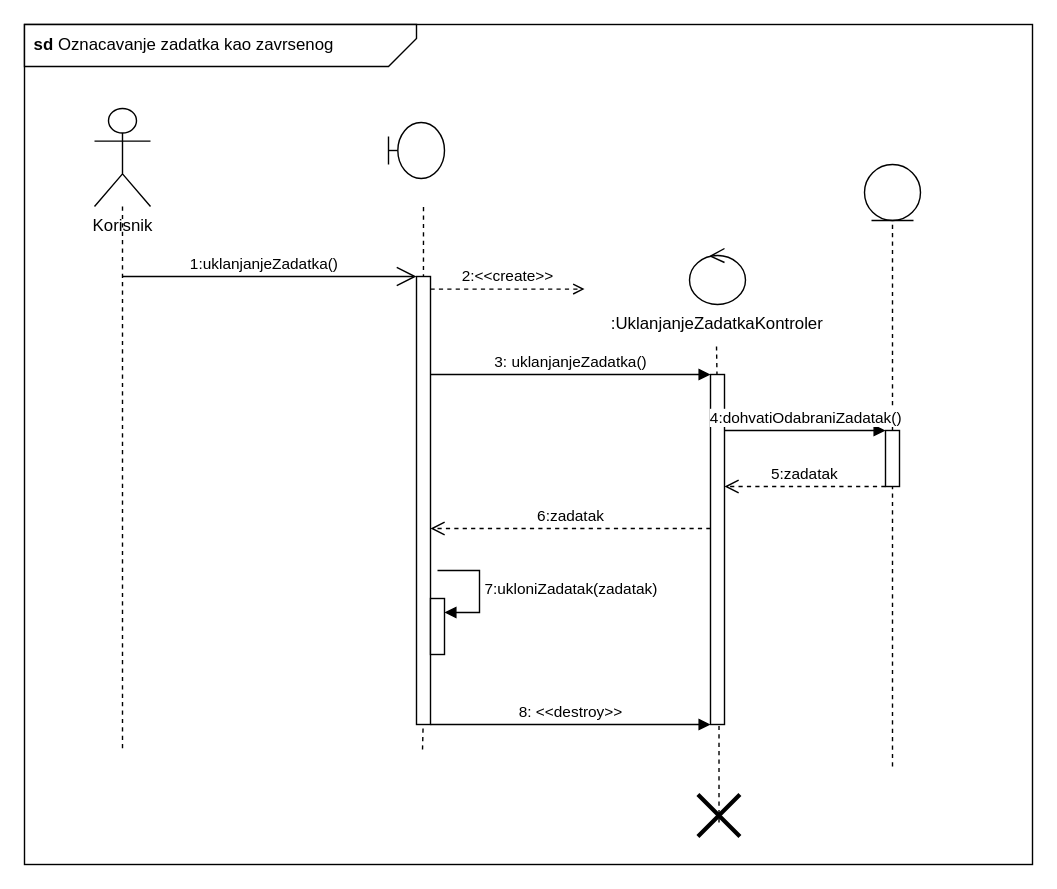
Image size: 1057x889. Some labels were removed from this diagram. Here are the shapes that lost their labels. From the top down, the centre of each, then its label:
At point 415,149: ":UklanjanjeZadatkaForma".
At point 891,191: ":Zadaci".
